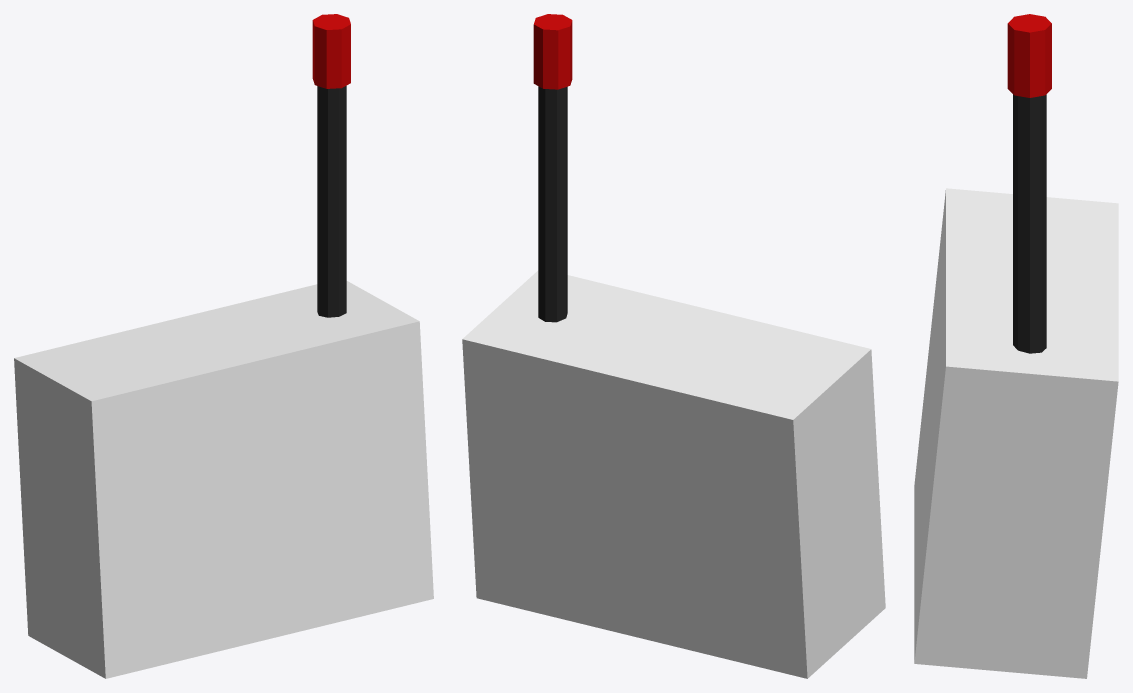
Rendered from backpack.fbx.
3 renders of one model, left to right at view 1: azimuth 30°, elevation 25°; view 2: azimuth 150°, elevation 25°; view 3: azimuth 270°, elevation 25°, orthographic. The views are drawn at different scales.
Visible parts, largest first — view 1: Backpack; view 2: Backpack; view 3: Backpack.
Boxes of the visible parts, box(x1,y1,x2,y2) form: Backpack: box(14, 14, 433, 678); Backpack: box(462, 14, 885, 678); Backpack: box(914, 14, 1118, 678).
Size of the model in its own units: 45.02 by 74.02 by 21.8.
